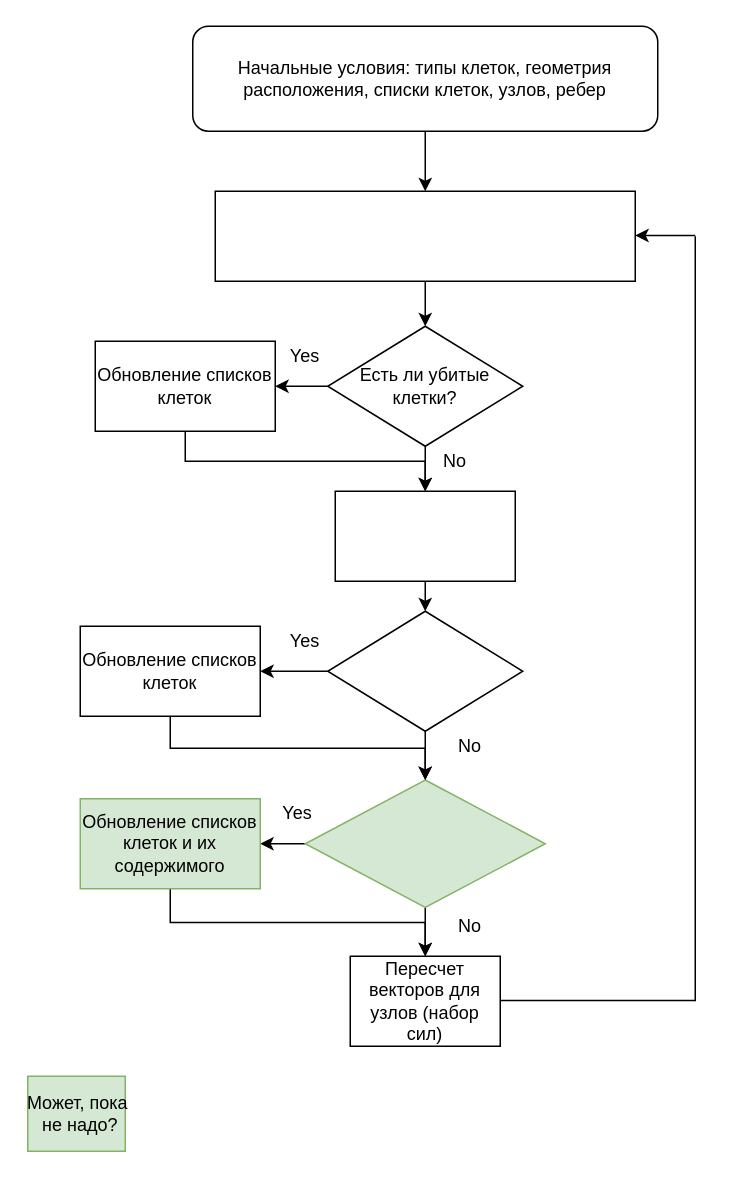
This 734x1178 diagram has some shape labels left out. The shapes that lost their labels are listed below. From the top down, each one's centre as x and y in pixels, then its label:
the point at 424,235: Действие иммунных клеток
the point at 424,535: Изменение состояния клеток (заражение, клеточный автомат)
the point at 424,670: Есть ли умершие клетки?
the point at 424,843: Есть ли условия для деления клетки?
